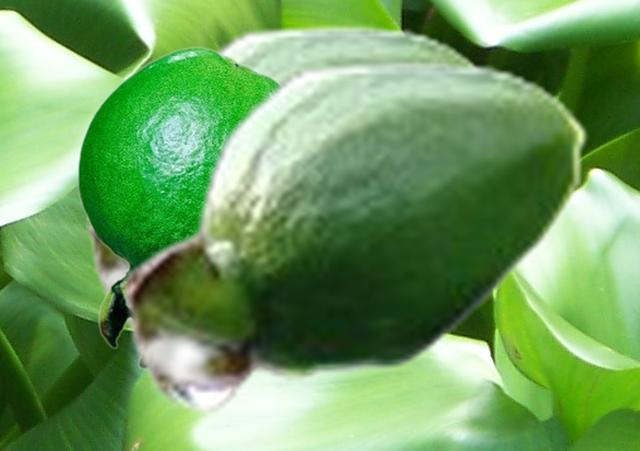guava: (122, 57, 588, 415), (86, 22, 483, 333), (76, 46, 276, 367)
